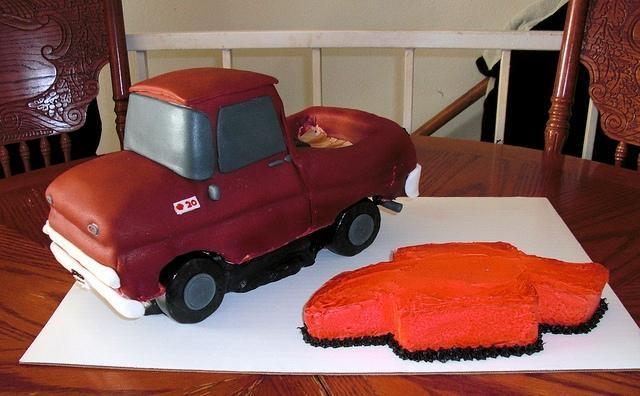car: (42, 68, 421, 324)
truck: (38, 60, 424, 326)
